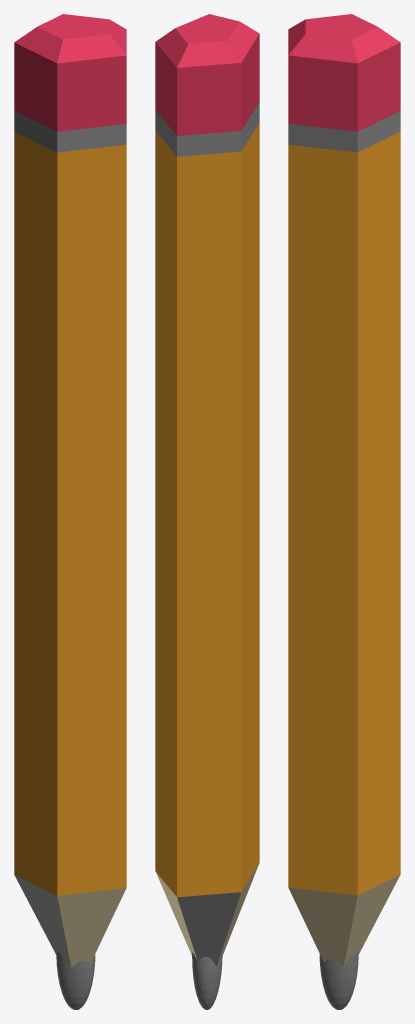
File: pencil.fbx
The picture shows the model from 3 angles, left to right: view 1: azimuth 90°, elevation 25°; view 2: azimuth 150°, elevation 25°; view 3: azimuth 270°, elevation 25°; orthographic projection.
Parts seen in each view (by area): view 1: Cylinder.006, Sphere.010; view 2: Cylinder.006, Sphere.010; view 3: Cylinder.006, Sphere.010.
Part boxes in pixels (x1,y1,x2,y2): Cylinder.006: [14, 14, 126, 968]; Sphere.010: [56, 952, 95, 1009]; Cylinder.006: [155, 14, 259, 966]; Sphere.010: [192, 952, 222, 1009]; Cylinder.006: [288, 14, 400, 966]; Sphere.010: [319, 951, 358, 1009].
Size of the model in its own units: 64.78 by 705 by 73.05.
